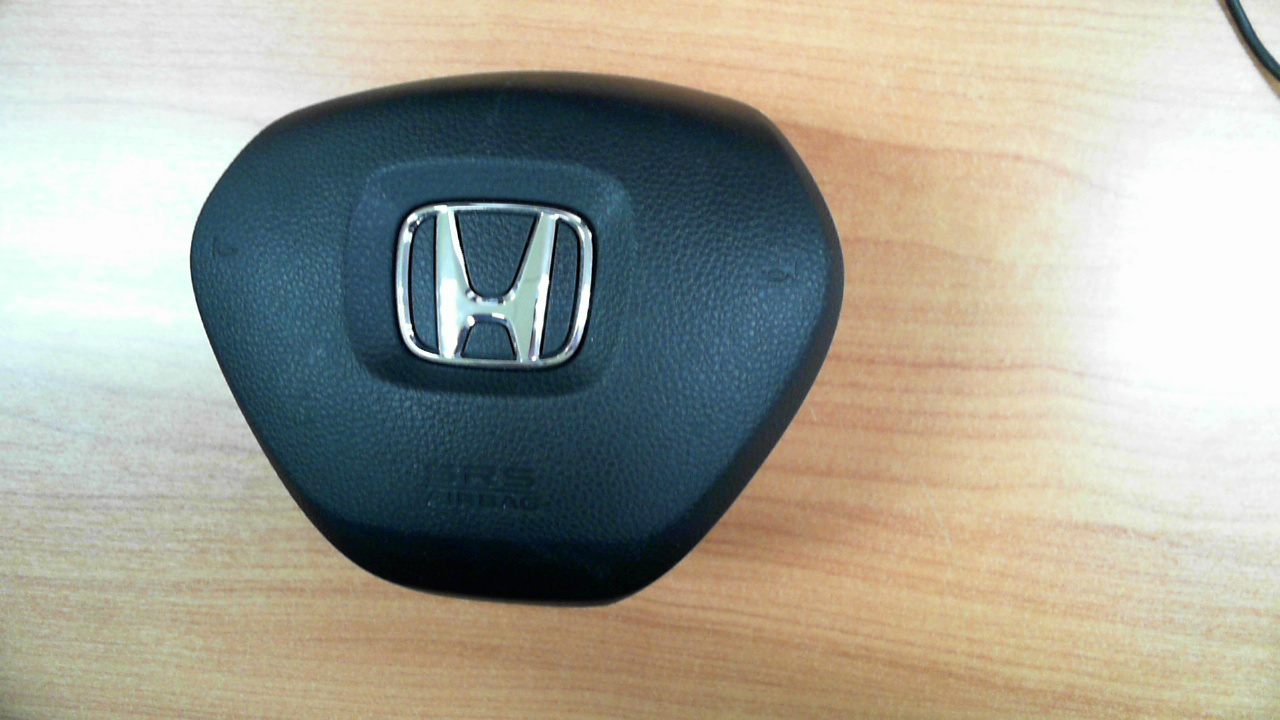Airbag: (189, 72, 845, 607)
